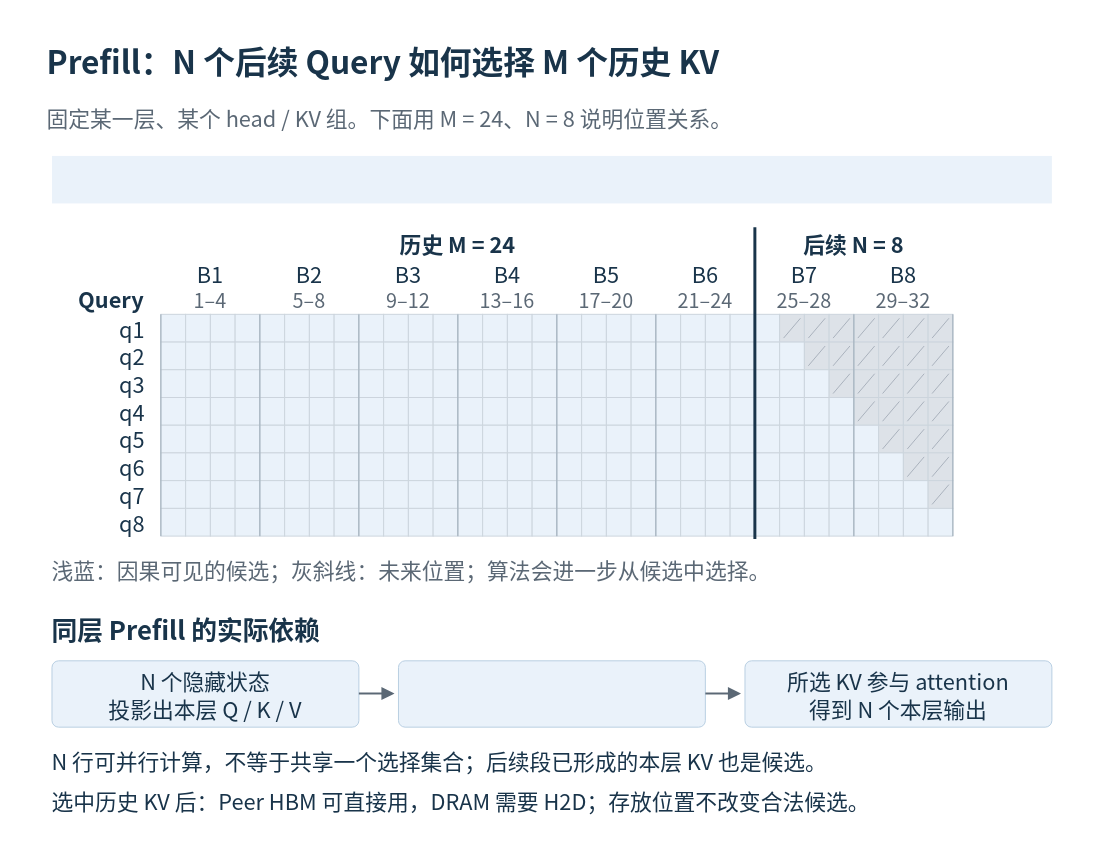
Image size: 1103x850. Some labels were removed from this diagram. Each missing label, with the centre of its shape:
q1 = q25，…，q8 = q32；第 i 行只能访问 j ≤ M+i 的 KV。: (551,179)
历史 KV + 后续 KV 因果约束内逐 Query 选择: (551,693)
